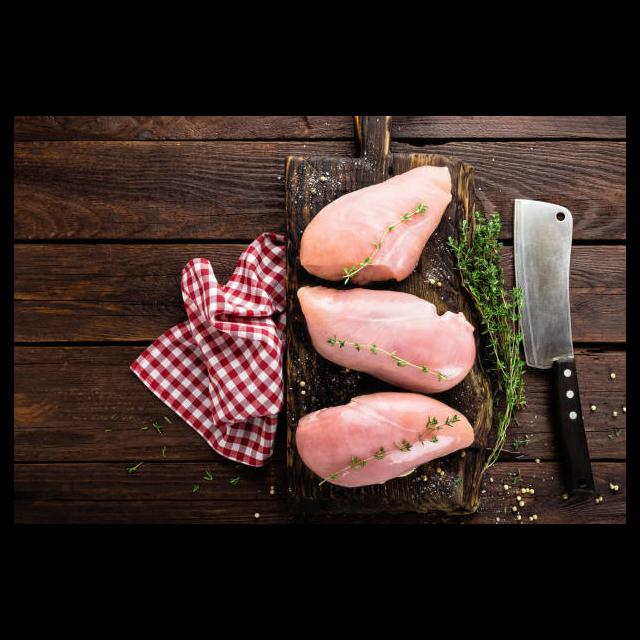chicken: (296, 284, 476, 397), (295, 391, 475, 486), (302, 165, 450, 279)
